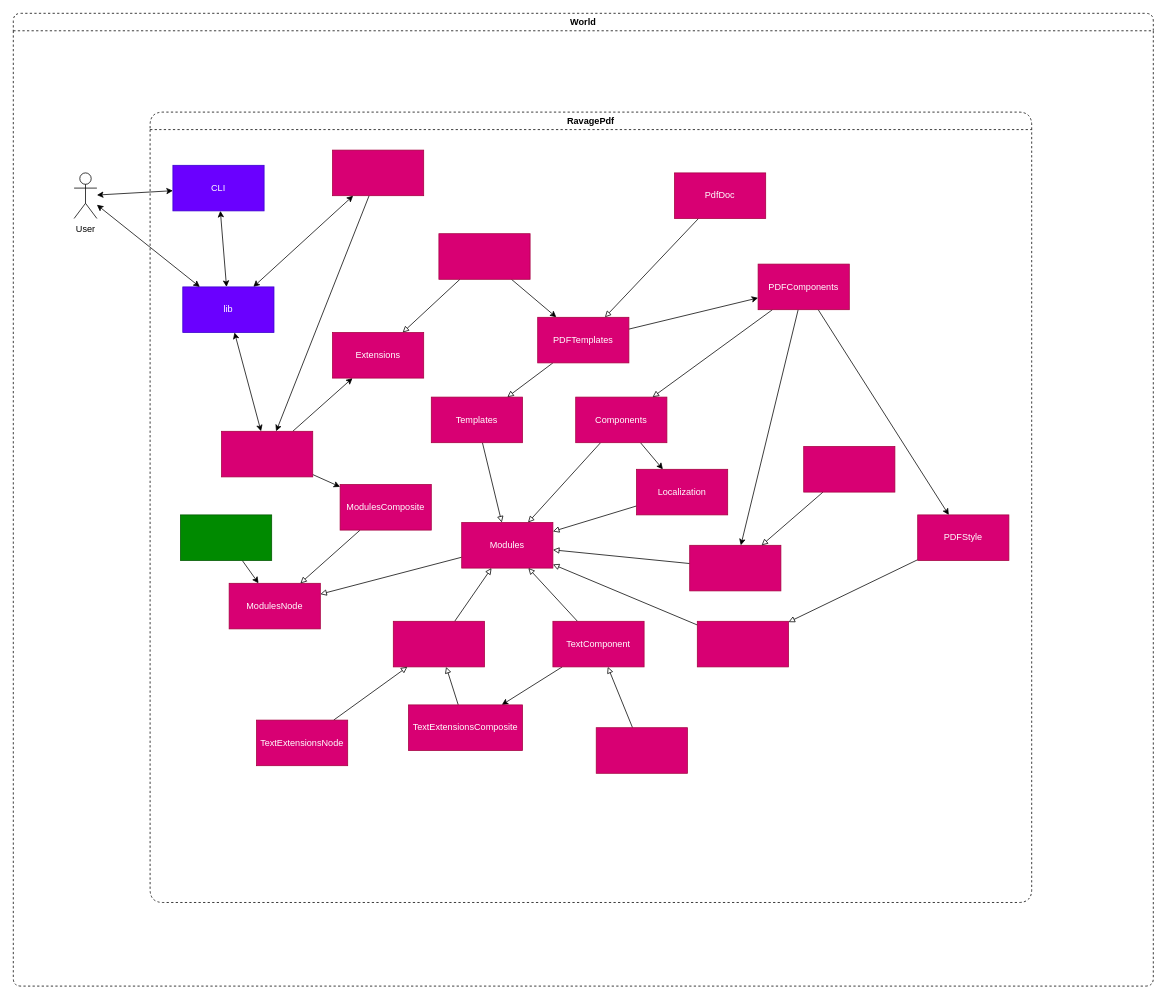
The diagram is 1167 pixels wide and 999 high, and some of its shapes have lost their labels. Each missing label, with the centre of its shape:
BuildEndpoint: [378,172]
Config: [226,537]
Markdown: [641,750]
OpenAPIStructure: [849,469]
PackageManager: [267,454]
PDF: [484,256]
Structure: [735,568]
Style: [742,644]
TextExtensions: [438,644]
